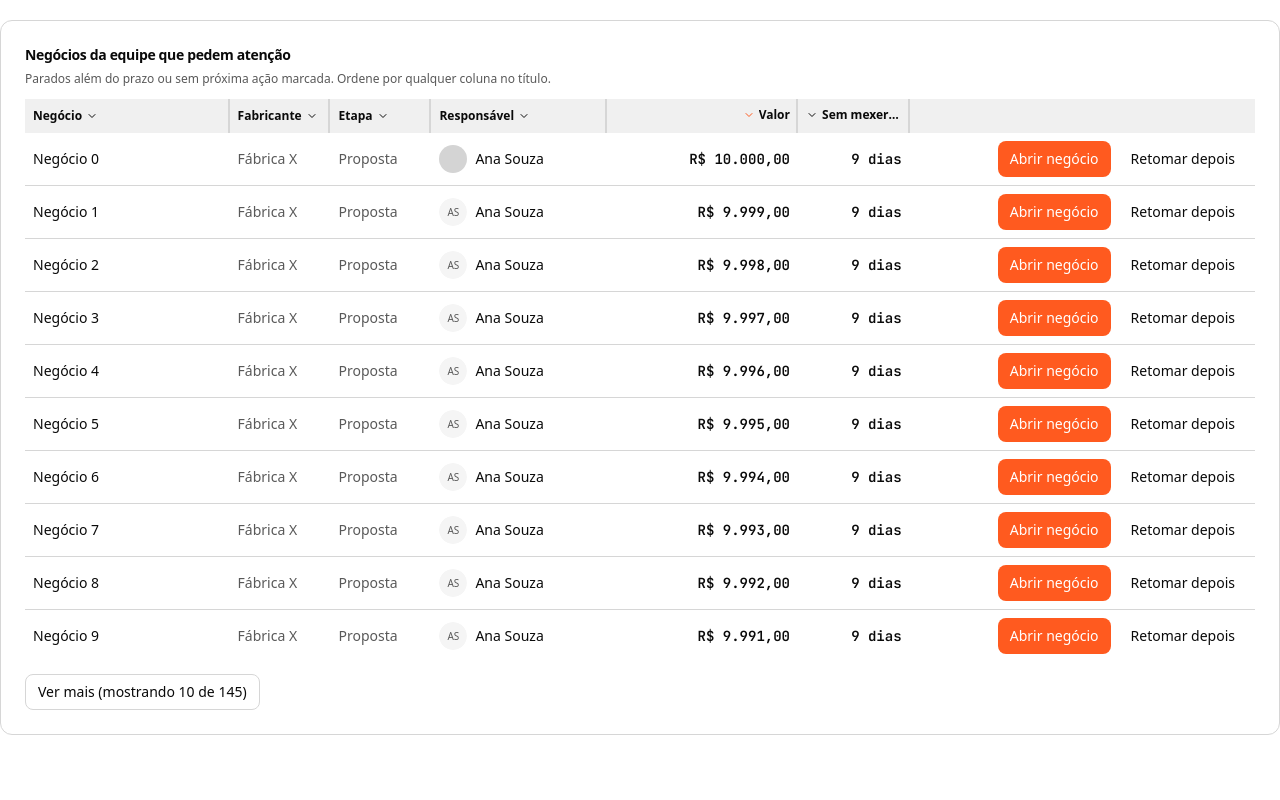
Scenario: a tabela do time › "Ver mais" cresce o limite em vez de andar com o deslocamento
Click the button "Ver mais (mostrando 10 de 145)": x=142, y=692 [25,674,260,710]
(page scrolled)
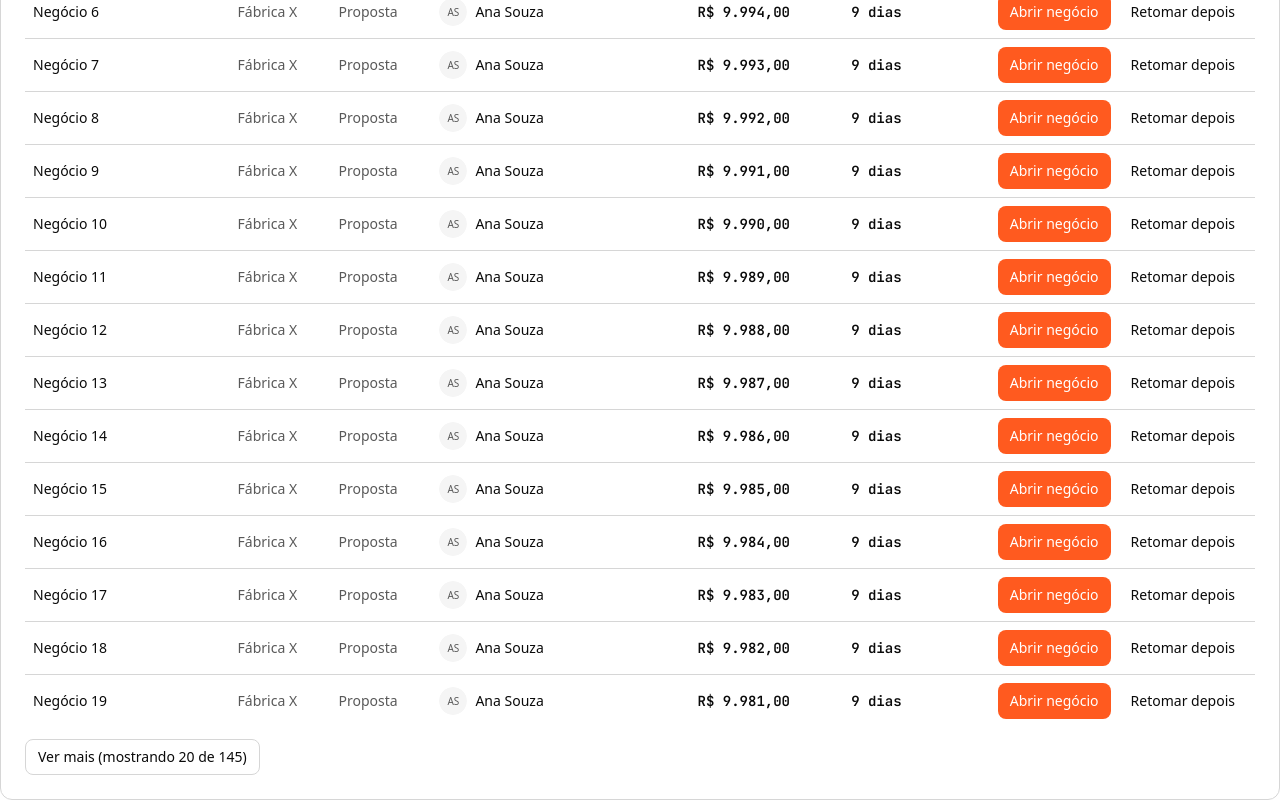
Now the button "Ver mais (mostrando 20 de 145)" is shown, box [25,739,260,775]
